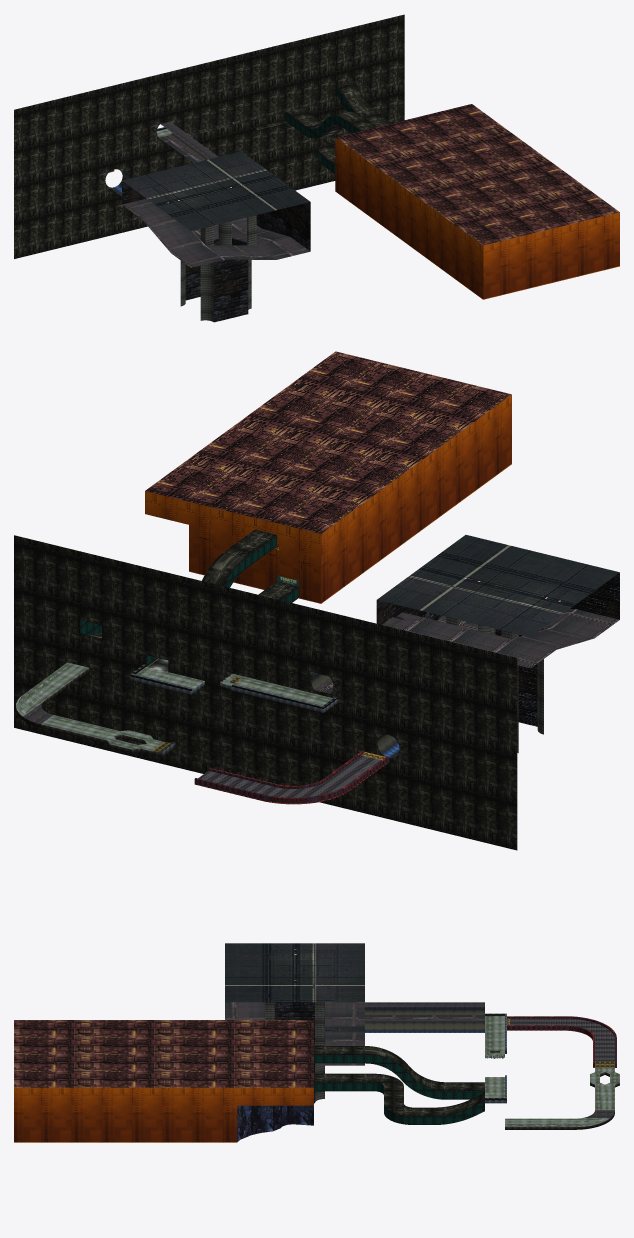
The picture shows the model from 3 angles, top to bottom: view 1: azimuth 30°, elevation 25°; view 2: azimuth 150°, elevation 25°; view 3: azimuth 270°, elevation 25°; orthographic projection. The views are drawn at different scales.
Visible parts, largest first — view 1: Texturemodel4-SKP--ceiling1_bigwall_wall, Texturemodel4-SKP--ceiling3_wall, Texturemodel4-SKP--wall5_wall, Texturemodel4-SKP--ceiling4_wall, Texturemodel4-SKP--floor6_road, Texturemodel4-SKP--wall4_wall, Texturemodel4-SKP--pillar_wall, Texturemodel4-SKP--wall1_wall, Texturemodel4-SKP--Color_007; view 2: Texturemodel4-SKP--ceiling1_bigwall_wall, Texturemodel4-SKP--ceiling3_wall, Texturemodel4-SKP--wall5_wall, Texturemodel4-SKP--ceiling4_wall, Texturemodel4-SKP--floor6_road, Texturemodel4-SKP--floor2_road, Texturemodel4-SKP--wall4_wall, Texturemodel4-SKP--wall2_wall, Texturemodel4-SKP--floor3_road, Texturemodel4-SKP--wall3_wall, Texturemodel4-SKP--wall1_wall, Texturemodel4-SKP--pillar_wall (+1 smaller); view 3: Texturemodel4-SKP--ceiling3_wall, Texturemodel4-SKP--wall5_wall, Texturemodel4-SKP--ceiling4_wall, Texturemodel4-SKP--ceiling1_bigwall_wall, Texturemodel4-SKP--wall1_wall, Texturemodel4-SKP--floor6_road, Texturemodel4-SKP--floor2_road, Texturemodel4-SKP--pipe_road, Texturemodel4-SKP--stone_wall, Texturemodel4-SKP--floor3_road, Texturemodel4-SKP--Color_007, Texturemodel4-SKP--pillar_wall (+3 smaller).
Boxes of the visible parts, bbox=[...] form: Texturemodel4-SKP--ceiling1_bigwall_wall: bbox=[14, 14, 404, 258]; Texturemodel4-SKP--ceiling3_wall: bbox=[335, 104, 619, 245]; Texturemodel4-SKP--wall5_wall: bbox=[335, 137, 619, 299]; Texturemodel4-SKP--ceiling4_wall: bbox=[122, 151, 310, 230]; Texturemodel4-SKP--floor6_road: bbox=[122, 134, 309, 267]; Texturemodel4-SKP--wall4_wall: bbox=[122, 181, 310, 322]; Texturemodel4-SKP--pillar_wall: bbox=[180, 215, 256, 321]; Texturemodel4-SKP--wall1_wall: bbox=[285, 85, 359, 173]; Texturemodel4-SKP--Color_007: bbox=[160, 121, 217, 159]; Texturemodel4-SKP--ceiling1_bigwall_wall: bbox=[14, 529, 517, 850]; Texturemodel4-SKP--ceiling3_wall: bbox=[145, 351, 511, 533]; Texturemodel4-SKP--wall5_wall: bbox=[145, 394, 511, 603]; Texturemodel4-SKP--ceiling4_wall: bbox=[377, 535, 619, 637]; Texturemodel4-SKP--floor6_road: bbox=[315, 609, 619, 693]; Texturemodel4-SKP--floor2_road: bbox=[16, 662, 332, 750]; Texturemodel4-SKP--wall4_wall: bbox=[376, 572, 619, 726]; Texturemodel4-SKP--wall2_wall: bbox=[16, 665, 337, 757]; Texturemodel4-SKP--floor3_road: bbox=[198, 755, 380, 797]; Texturemodel4-SKP--wall3_wall: bbox=[194, 751, 388, 804]; Texturemodel4-SKP--wall1_wall: bbox=[80, 535, 298, 666]; Texturemodel4-SKP--pillar_wall: bbox=[446, 617, 550, 753]; Texturemodel4-SKP--ceiling3_wall: bbox=[14, 1020, 313, 1087]; Texturemodel4-SKP--wall5_wall: bbox=[14, 1087, 313, 1142]; Texturemodel4-SKP--ceiling4_wall: bbox=[225, 943, 364, 1032]; Texturemodel4-SKP--ceiling1_bigwall_wall: bbox=[314, 1046, 484, 1115]; Texturemodel4-SKP--wall1_wall: bbox=[314, 1054, 484, 1124]; Texturemodel4-SKP--floor6_road: bbox=[225, 1002, 484, 1065]; Texturemodel4-SKP--floor2_road: bbox=[485, 1016, 619, 1126]; Texturemodel4-SKP--pipe_road: bbox=[365, 1007, 484, 1032]; Texturemodel4-SKP--stone_wall: bbox=[237, 1105, 313, 1141]; Texturemodel4-SKP--floor3_road: bbox=[510, 1018, 614, 1061]; Texturemodel4-SKP--Color_007: bbox=[365, 1002, 614, 1118]; Texturemodel4-SKP--pillar_wall: bbox=[265, 1002, 324, 1102].
Size of what is drawn, in the model's own units: 79359 by 30201 by 105254.
Materials: 27 (27 with a texture image).
